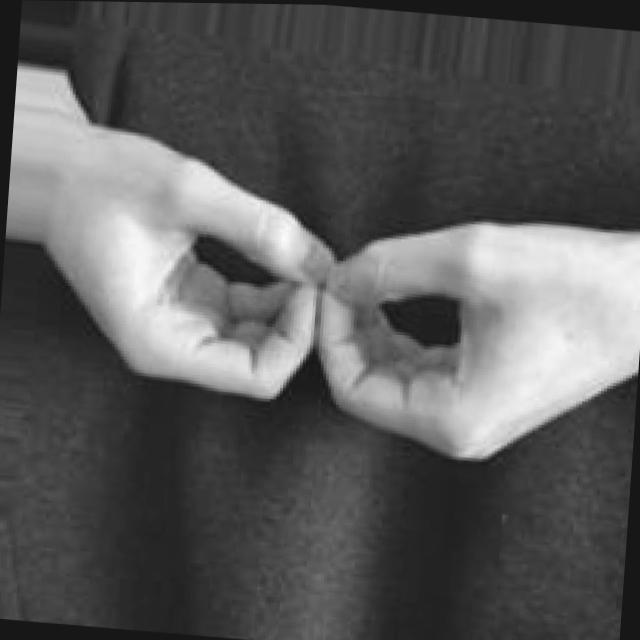B: (30, 124, 640, 476)
